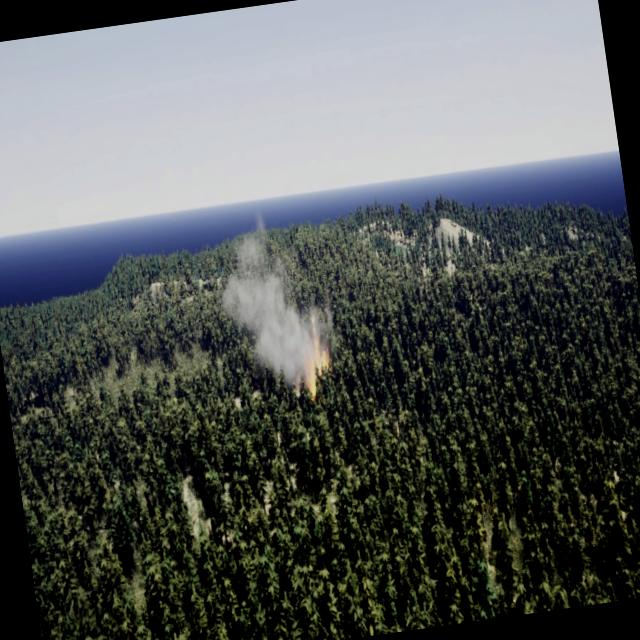fire: (302, 341, 338, 402)
smoke: (211, 205, 336, 392)
